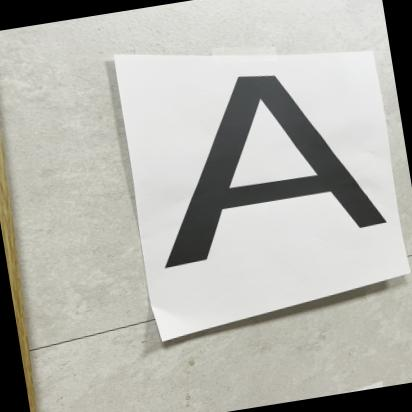seat: (136, 41, 400, 281)
